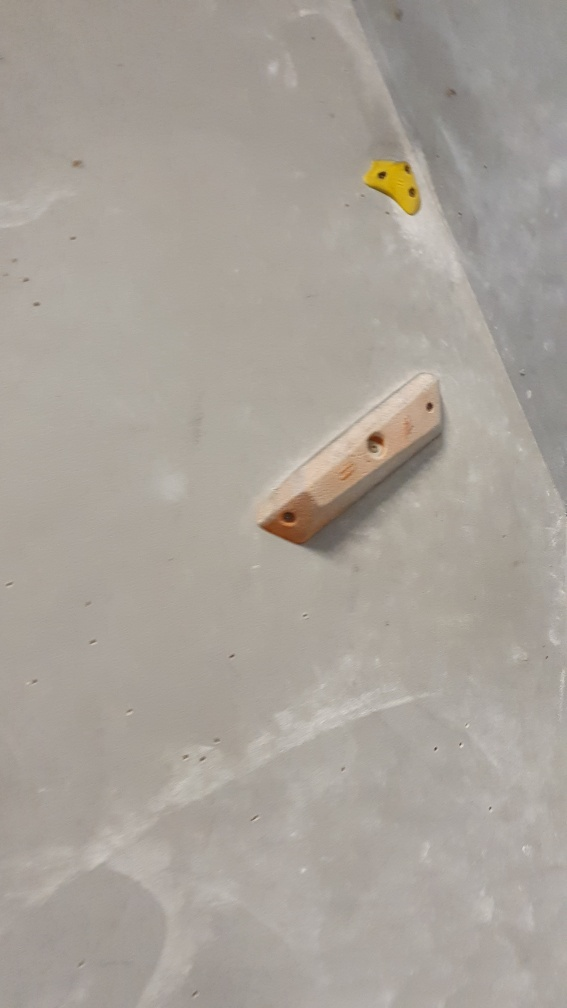Pinch: (258, 370, 446, 548)
